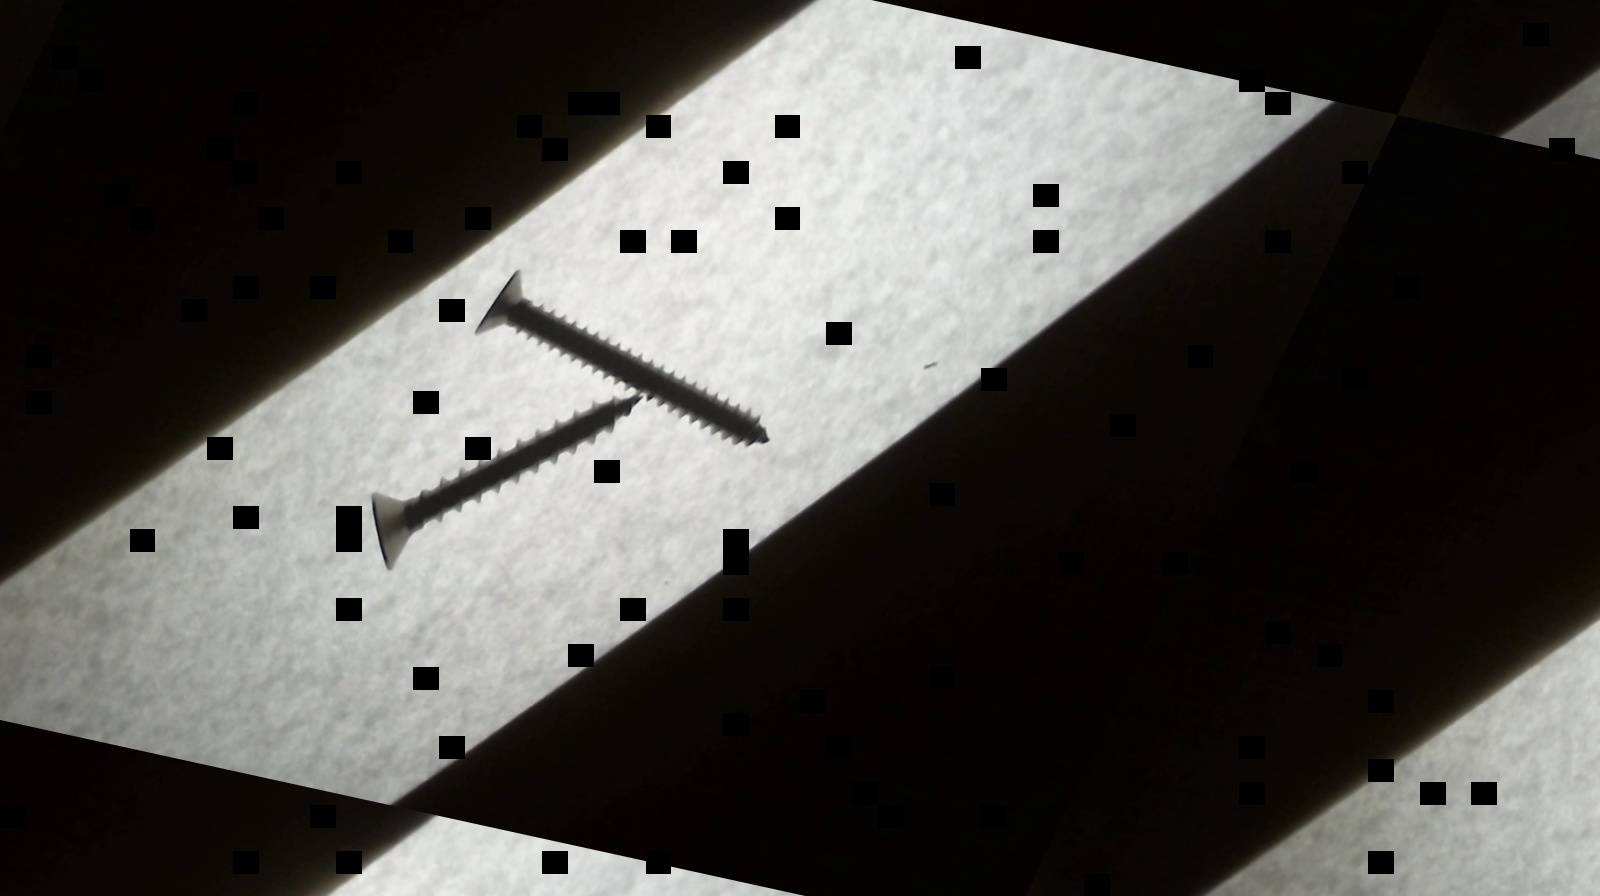S001: (340, 350, 642, 604)
S002: (444, 267, 820, 454)
